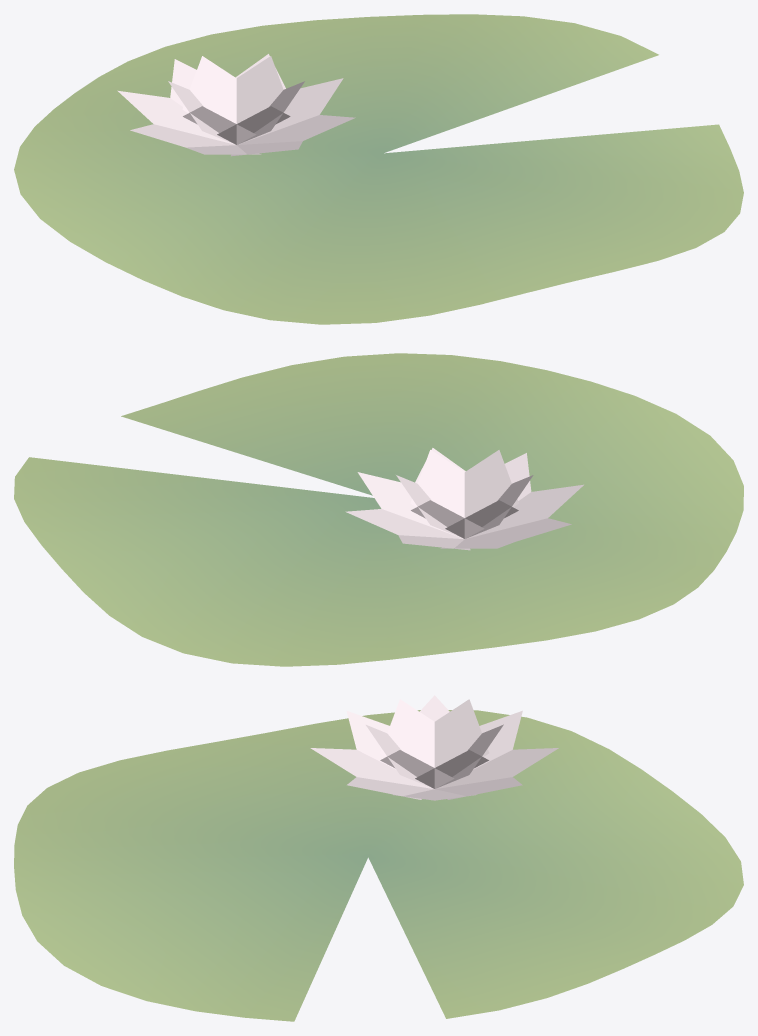
Rendered from lily_pad.glb.
3 renders of one model, top to bottom at view 1: azimuth 30°, elevation 25°; view 2: azimuth 150°, elevation 25°; view 3: azimuth 270°, elevation 25°, orthographic.
Parts seen in each view (by area): view 1: LilyPad; view 2: LilyPad; view 3: LilyPad.
Part boxes in pixels (x1,y1,x2,y2): LilyPad: (14,14,743,324); LilyPad: (14,353,743,666); LilyPad: (14,695,743,1021).
Size of the model in its own units: 0.1107 by 0.0163 by 0.1099.
